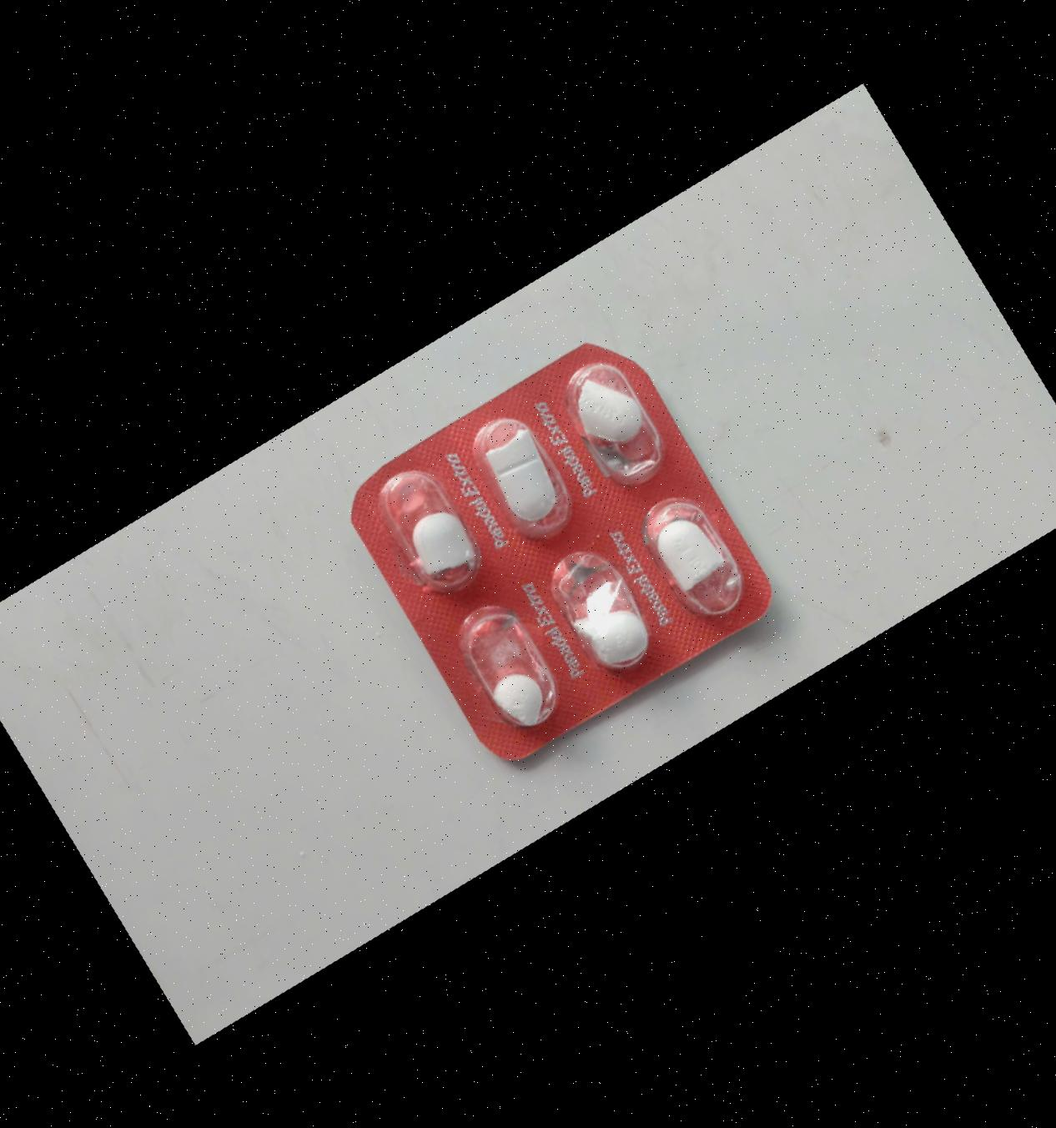Partial: (619, 480, 763, 651), (527, 532, 671, 703), (434, 373, 578, 544), (355, 446, 499, 617), (539, 340, 683, 511), (435, 577, 579, 747)
